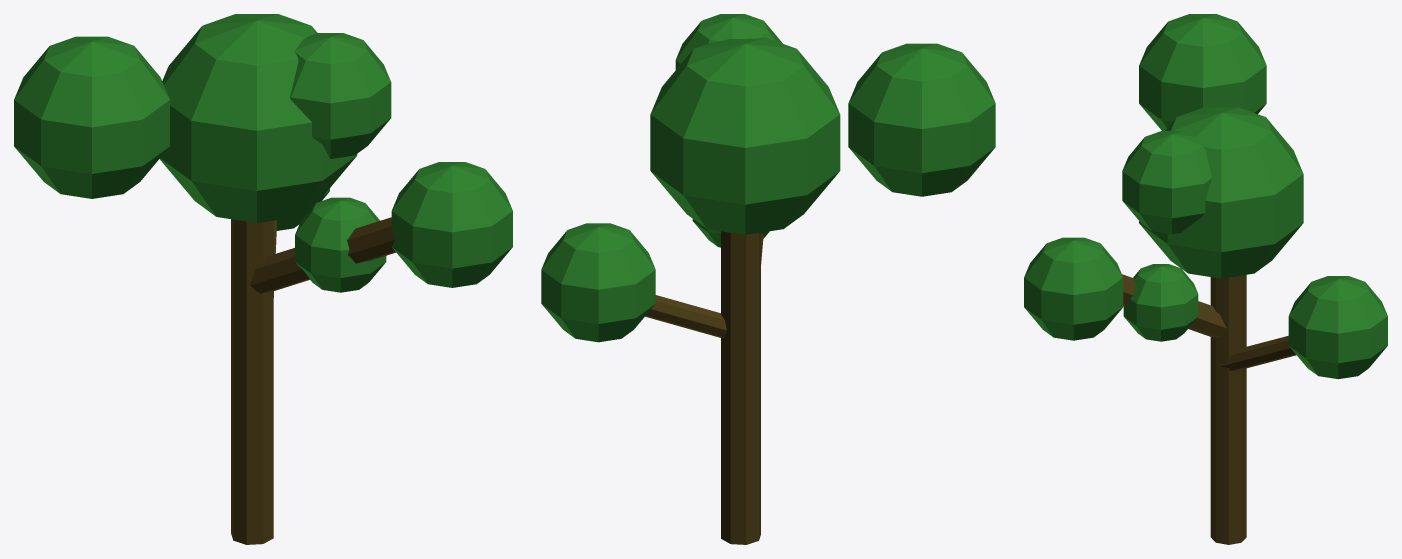
Rendered from tree6.fbx.
3 renders of one model, left to right at view 1: azimuth 30°, elevation 25°; view 2: azimuth 150°, elevation 25°; view 3: azimuth 270°, elevation 25°, orthographic. The views are drawn at different scales.
Parts seen in each view (by area): view 1: tree6, tronc_3_4_14; view 2: tree6, tronc_3_4_14; view 3: tree6, tronc_3_4_14.
Boxes of the visible parts, x1=… form: tree6: x1=14, y1=14, x2=512, y2=297; tronc_3_4_14: x1=231, y1=219, x2=273, y2=544; tree6: x1=541, y1=14, x2=995, y2=342; tronc_3_4_14: x1=721, y1=231, x2=760, y2=544; tree6: x1=1024, y1=14, x2=1387, y2=379; tronc_3_4_14: x1=1210, y1=275, x2=1246, y2=544.
Bounding box in the file's own units: 16.46 × 21.63 × 15.89.
